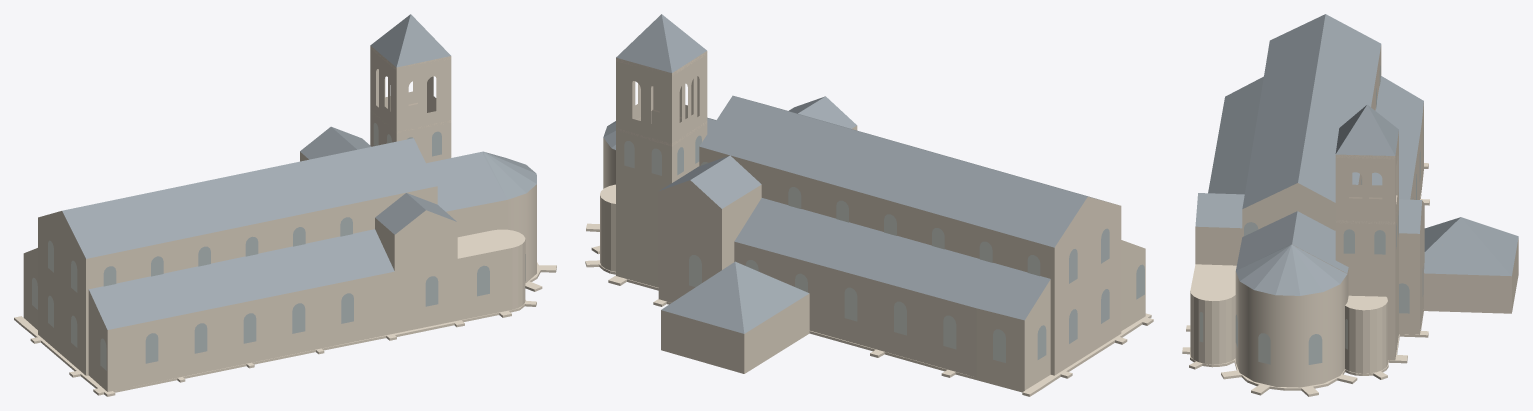
3 renders of one model, left to right at view 1: azimuth 30°, elevation 25°; view 2: azimuth 150°, elevation 25°; view 3: azimuth 270°, elevation 25°, orthographic. The views are drawn at different scales.
Visible parts, largest first — view 1: stone, roof, window; view 2: stone, roof, window; view 3: roof, stone, window.
Boxes of the visible parts, bbox=[...] form: stone: bbox=[14, 46, 556, 396]; roof: bbox=[62, 14, 536, 329]; window: bbox=[32, 123, 525, 370]; stone: bbox=[585, 51, 1153, 396]; roof: bbox=[603, 14, 1108, 333]; window: bbox=[624, 135, 1144, 362]; roof: bbox=[1195, 14, 1518, 295]; stone: bbox=[1182, 45, 1518, 396]; window: bbox=[1199, 65, 1423, 364].
Size of the model in its own units: 54.58 by 26 by 32.48.
